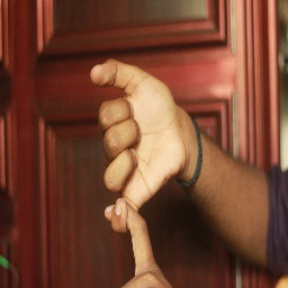S: (86, 52, 193, 288)
